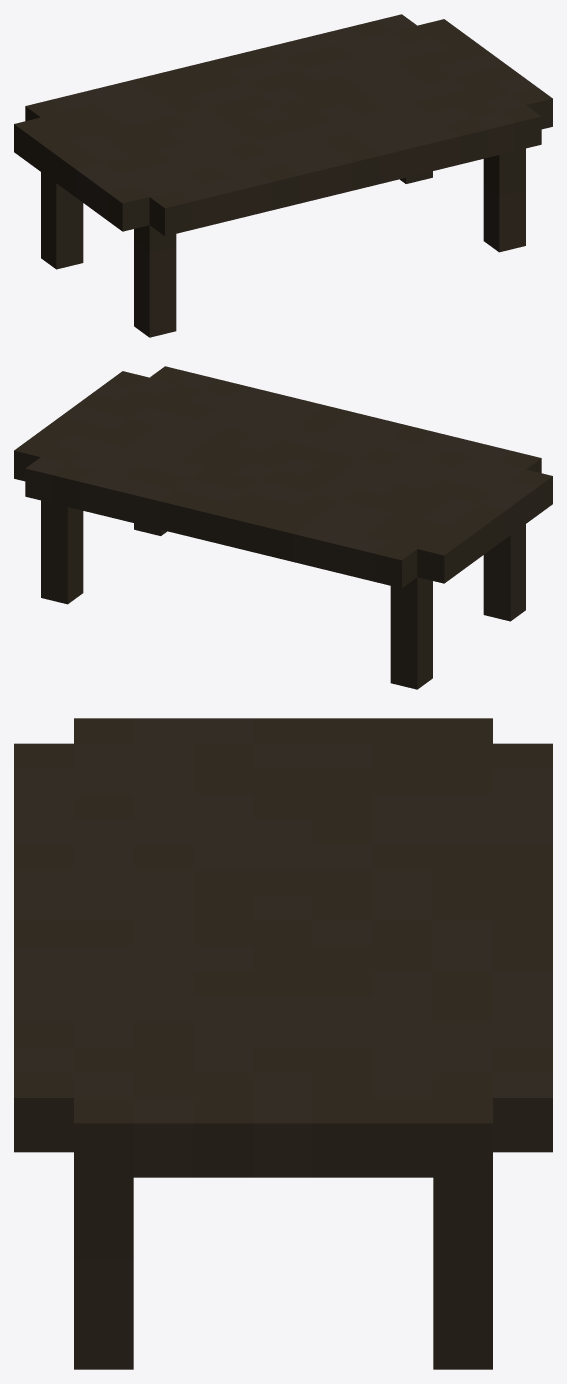
The model's file is tavern-48-table.obj.
The picture shows the model from 3 angles, top to bottom: view 1: azimuth 30°, elevation 25°; view 2: azimuth 150°, elevation 25°; view 3: azimuth 270°, elevation 25°; orthographic projection. The views are drawn at different scales.
Parts seen in each view (by area): view 1: table; view 2: table; view 3: table.
Part boxes in pixels (<box>): table: <box>14,14,552,337</box>; table: <box>14,366,552,689</box>; table: <box>14,718,552,1369</box>.
Bounding box in the file's own units: 1.6 × 0.5 × 0.9.
1 material, 1 textured.
